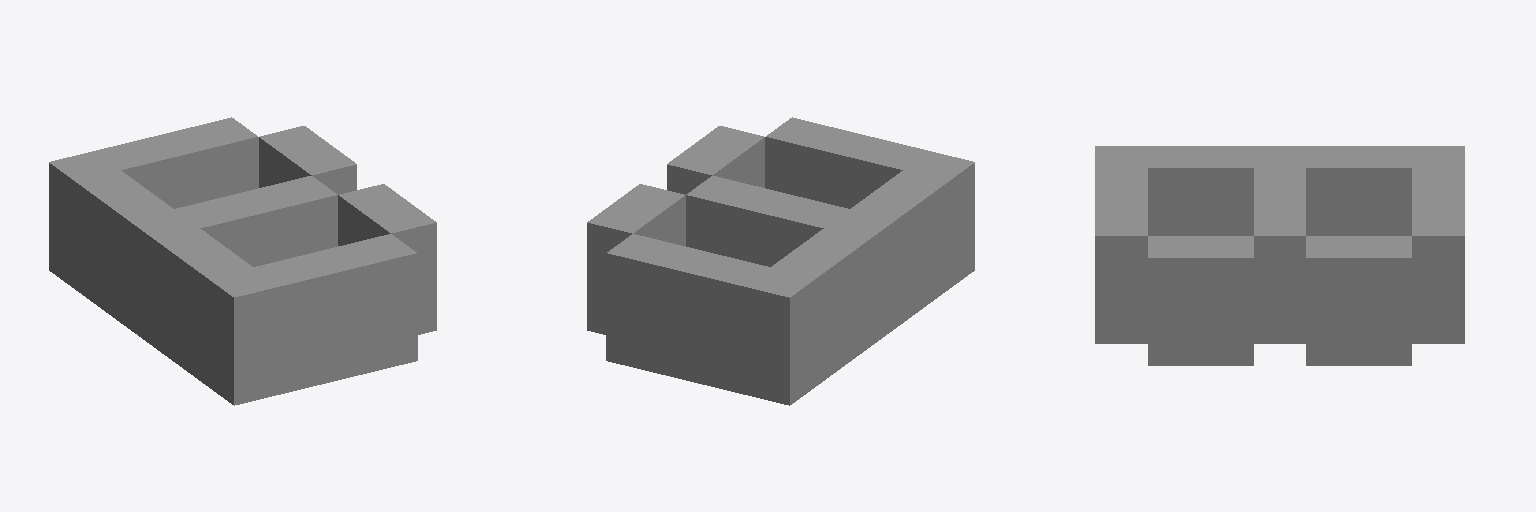
The picture shows the model from 3 angles: view 1: azimuth 30°, elevation 25°; view 2: azimuth 150°, elevation 25°; view 3: azimuth 270°, elevation 25°; orthographic projection.
Visible parts, largest first — view 1: B_CUABC.002; view 2: B_CUABC.002; view 3: B_CUABC.002.
Boxes of the visible parts, <box> form: B_CUABC.002: <box>49,117,436,405</box>; B_CUABC.002: <box>587,117,974,405</box>; B_CUABC.002: <box>1095,146,1464,365</box>.
Bounding box in the file's own units: 0.5556 × 0.25 × 0.7778.